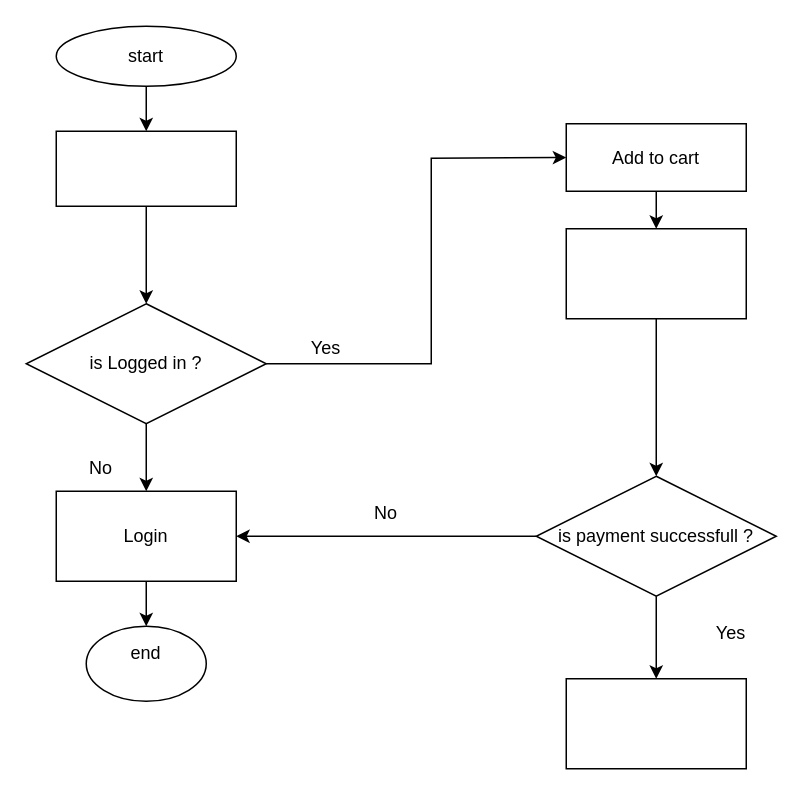
Image size: 803x795. Some labels were removed from this diagram. Each missing label, with the centre of its shape:
"browse products" goes at point (145, 168).
"Buy product" goes at point (655, 273).
"Order placed" goes at point (655, 723).
